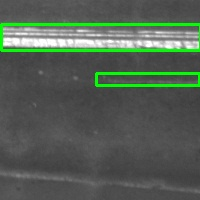scratches: (3, 168, 196, 196), (1, 24, 200, 50), (96, 73, 199, 85)
